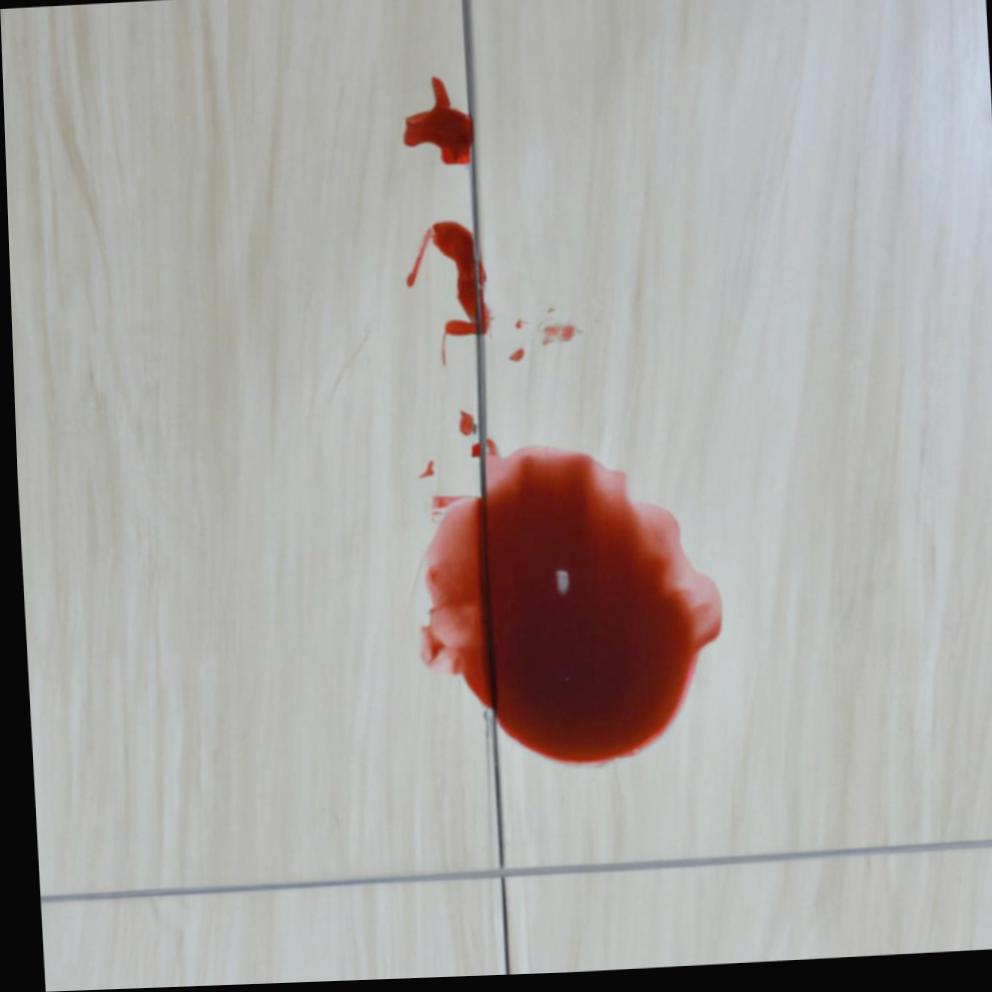Fire: (413, 443, 717, 772), (429, 225, 475, 340), (474, 259, 489, 339)
